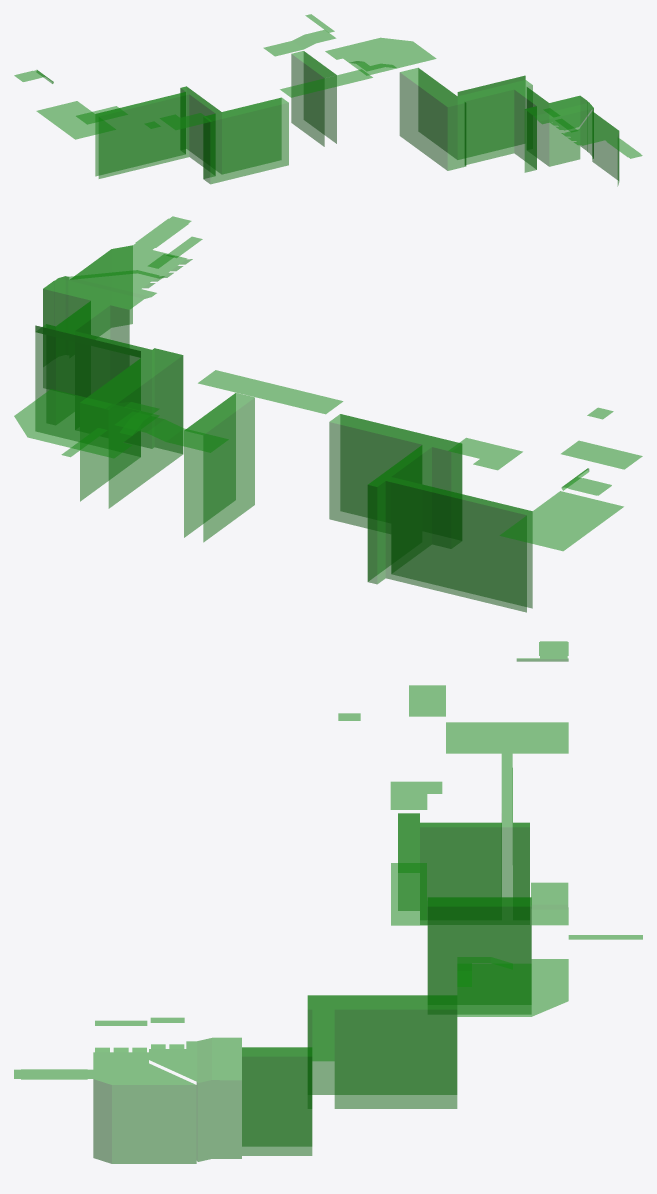
Rendered from yuka_col.obj.
3 renders of one model, top to bottom at view 1: azimuth 30°, elevation 25°; view 2: azimuth 150°, elevation 25°; view 3: azimuth 270°, elevation 25°, orthographic. The views are drawn at different scales.
Bounding box in the file's own units: 224 × 55.55 × 169.
